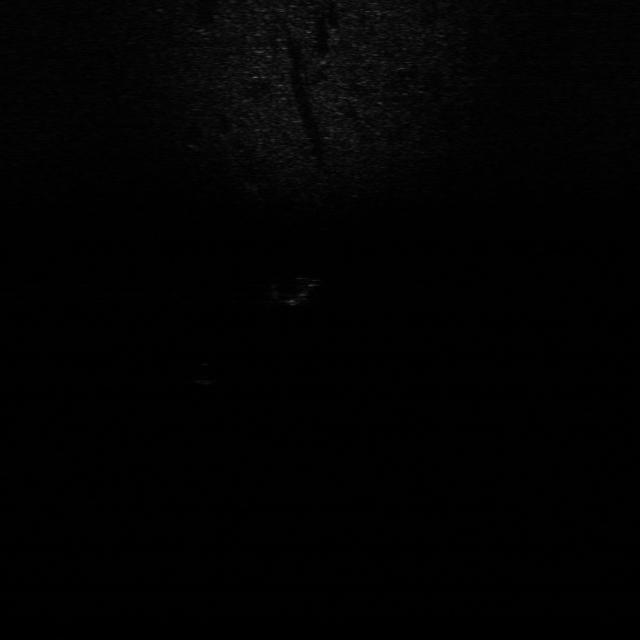ball: (191, 362, 227, 385)
human body: (270, 272, 324, 307)
